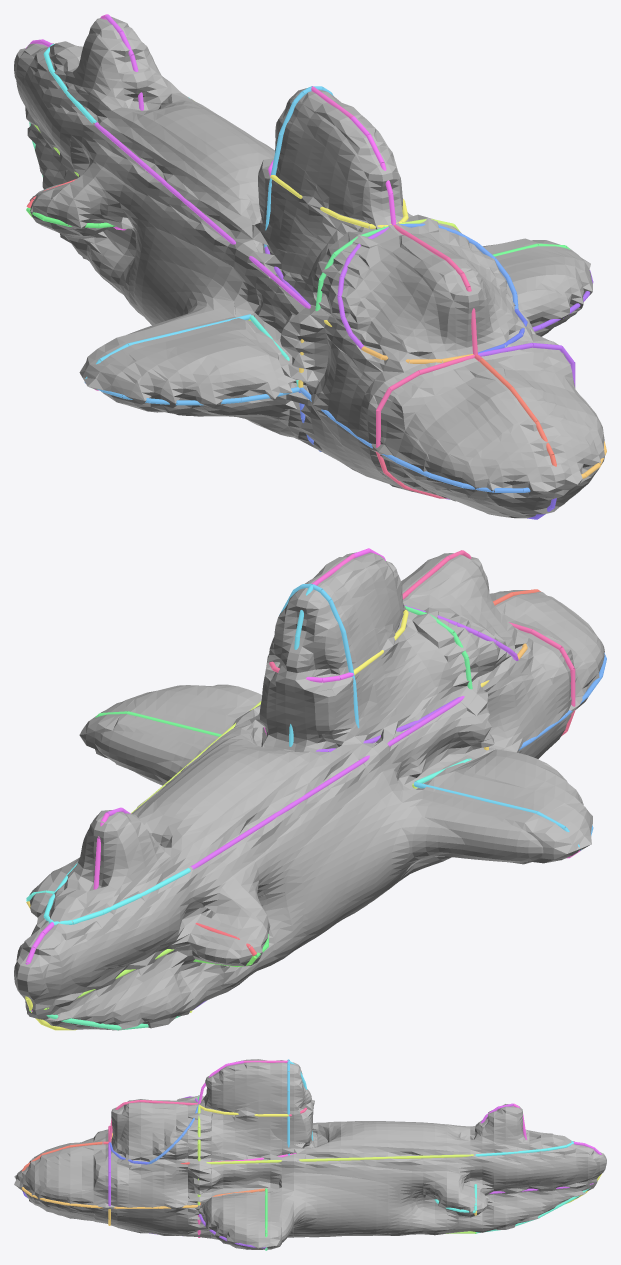
File: scaffolds3d_submarine.gltf
3 renders of one model, top to bottom at view 1: azimuth 30°, elevation 25°; view 2: azimuth 150°, elevation 25°; view 3: azimuth 270°, elevation 25°, orthographic. The views are drawn at different scales.
Size of the model in its own units: 0.4665 by 0.2595 by 0.8678.
